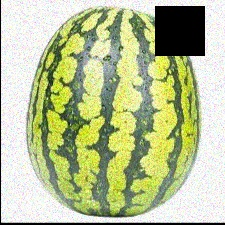watermelon: (28, 5, 200, 218)
